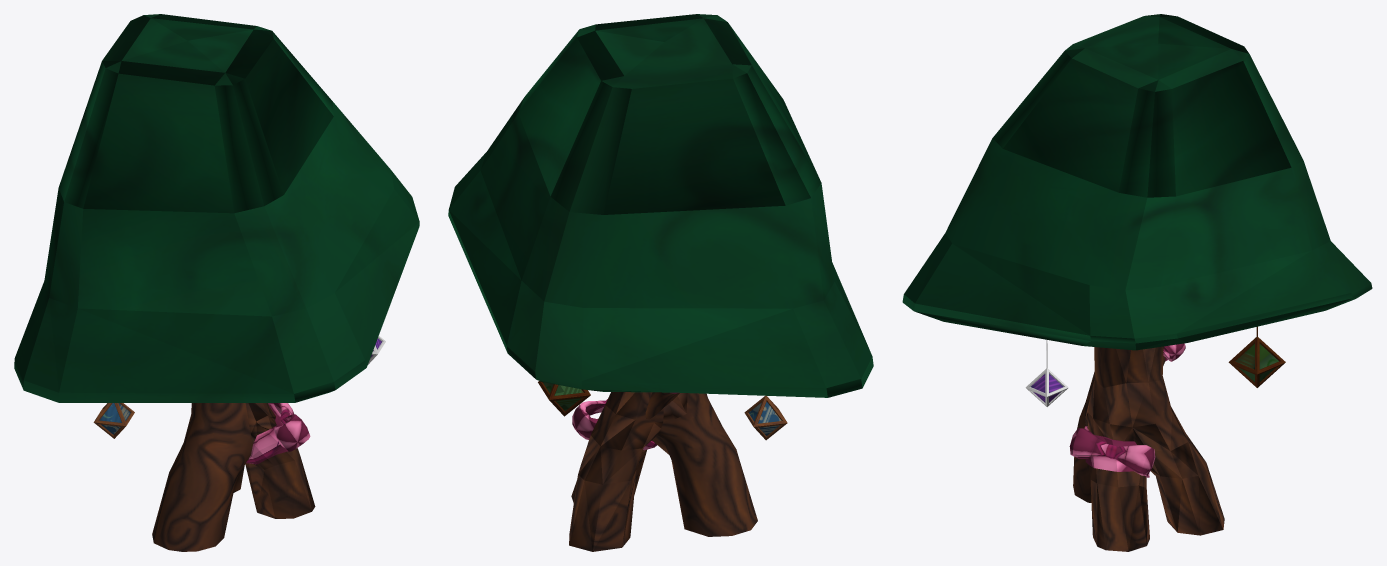
Rendered from Boom_versierd.FBX.
The picture shows the model from 3 angles, left to right: view 1: azimuth 30°, elevation 25°; view 2: azimuth 150°, elevation 25°; view 3: azimuth 270°, elevation 25°; orthographic projection. The views are drawn at different scales.
Parts seen in each view (by area): view 1: BoomStam001, Box002, Sphere004, Lint; view 2: BoomStam001, Sphere004, LampRood, Box002; view 3: BoomStam001, Box002, LampRood, LampRood001, Lint.
Boxes of the visible parts, x1,y1,x2,y2 form: BoomStam001: (14,14,419,551); Box002: (268,403,310,451); Sphere004: (93,403,134,438); Lint: (246,413,287,464); BoomStam001: (448,14,873,551); Sphere004: (744,395,787,440); LampRood: (538,381,590,416); Box002: (572,399,607,439); BoomStam001: (902,14,1372,551); Box002: (1069,428,1155,475); LampRood: (1228,326,1285,387); LampRood001: (1025,340,1068,406); Lint: (1084,426,1149,477).
Size of the model in its own units: 664 by 768 by 713.
5 materials, 5 textured.
